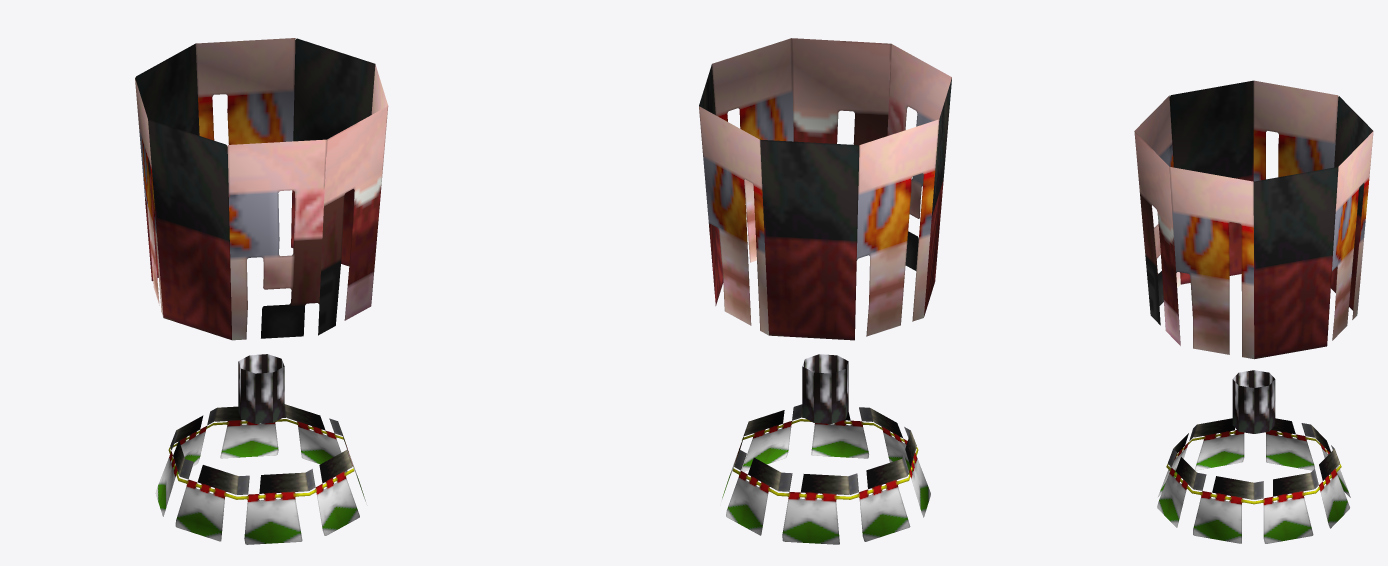
3 views of the same model, side by side, from view 1: azimuth 30°, elevation 25°; view 2: azimuth 150°, elevation 25°; view 3: azimuth 270°, elevation 25° (orthographic). The views are drawn at different scales.
Visible parts, largest first — view 1: T1L1M006_4; view 2: T1L1M006_4; view 3: T1L1M006_4.
Part boxes in pixels (x1=…): T1L1M006_4: x1=135, y1=38, x2=388, y2=544; T1L1M006_4: x1=699, y1=38, x2=951, y2=544; T1L1M006_4: x1=1134, y1=80, x2=1373, y2=543.
Bounding box in the file's own units: 1.01 × 0.8037 × 0.4326.
